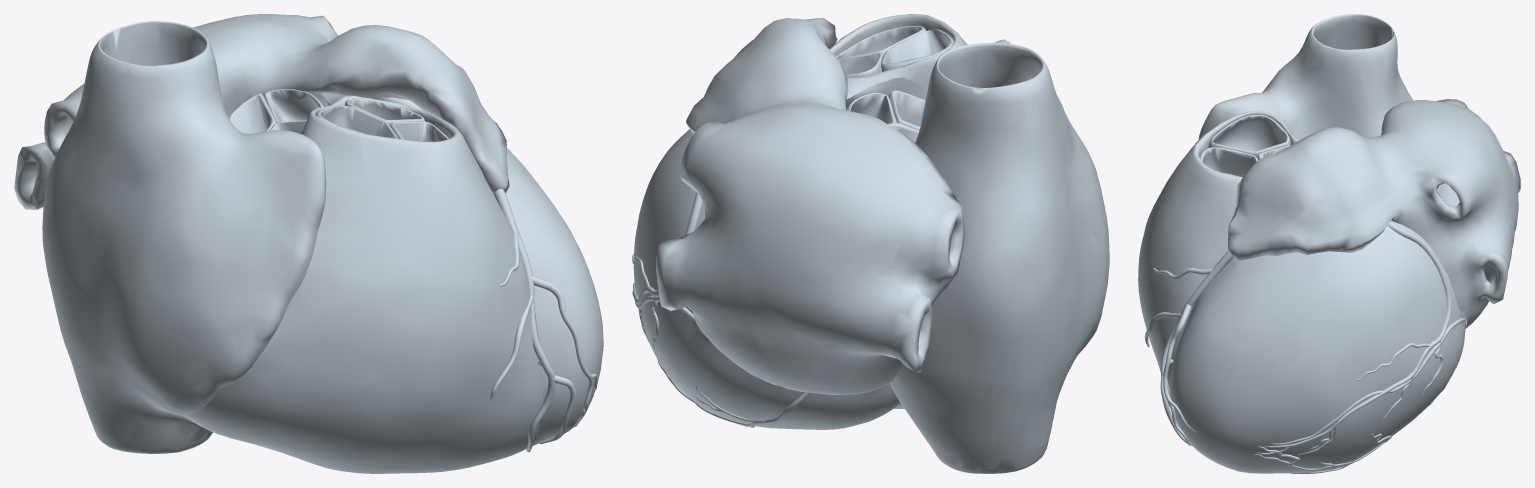
File: coeur.glb
3 renders of one model, left to right at view 1: azimuth 30°, elevation 25°; view 2: azimuth 150°, elevation 25°; view 3: azimuth 270°, elevation 25°, orthographic. The views are drawn at different scales.
Visible parts, largest first — view 1: coeur; view 2: coeur; view 3: coeur.
Part boxes in pixels (x1,y1,x2,y2): coeur: [14, 14, 603, 473]; coeur: [632, 14, 1109, 473]; coeur: [1138, 14, 1520, 473].
Bounding box in the file's own units: 0.1191 × 0.108 × 0.1128.
